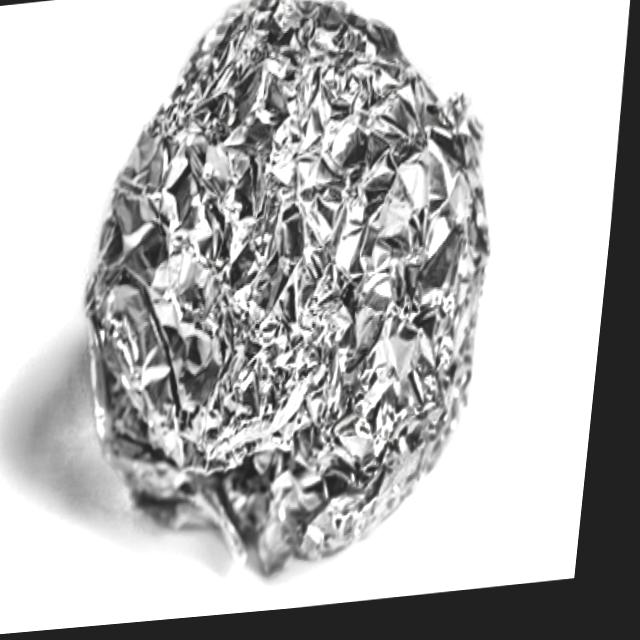Foil: (65, 0, 534, 608)
